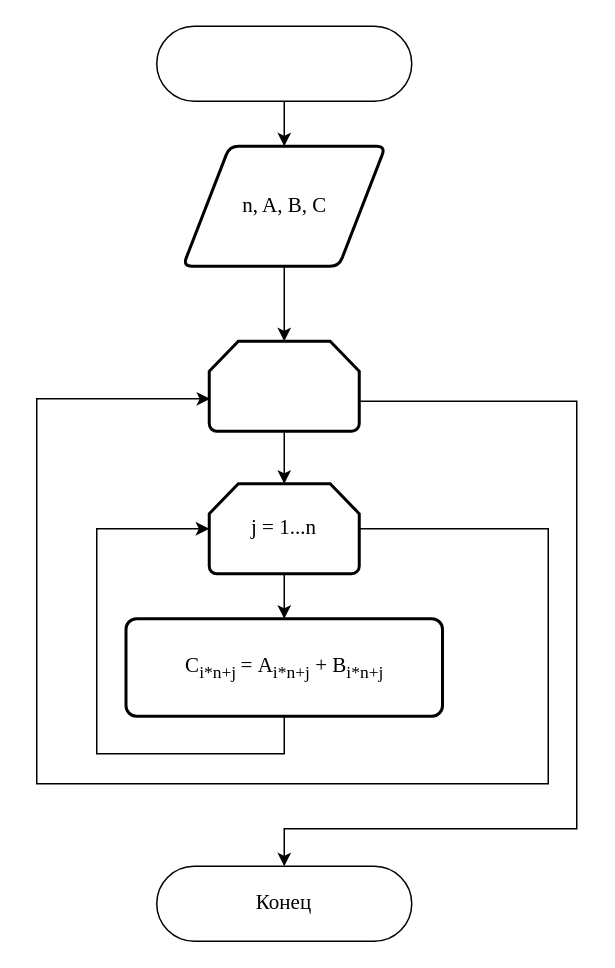
The diagram is 615 pixels wide and 968 high, and some of its shapes have lost their labels. The shapes that lost their labels are listed below. From the top down, each one's centre as x and y in pixels, then its label:
point 283,63: Начало
point 283,385: i = 1...n
